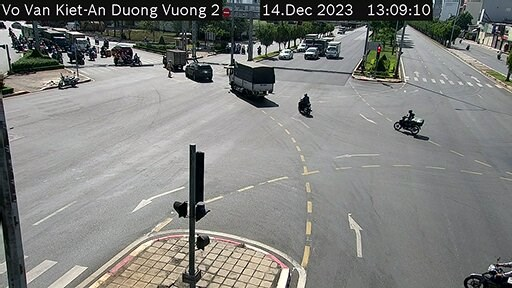car: (185, 62, 213, 84), (278, 47, 298, 62), (305, 45, 319, 66)
motorbike: (398, 110, 425, 132), (294, 90, 312, 116)
truck: (228, 55, 279, 100), (165, 44, 186, 71), (327, 40, 338, 58)
